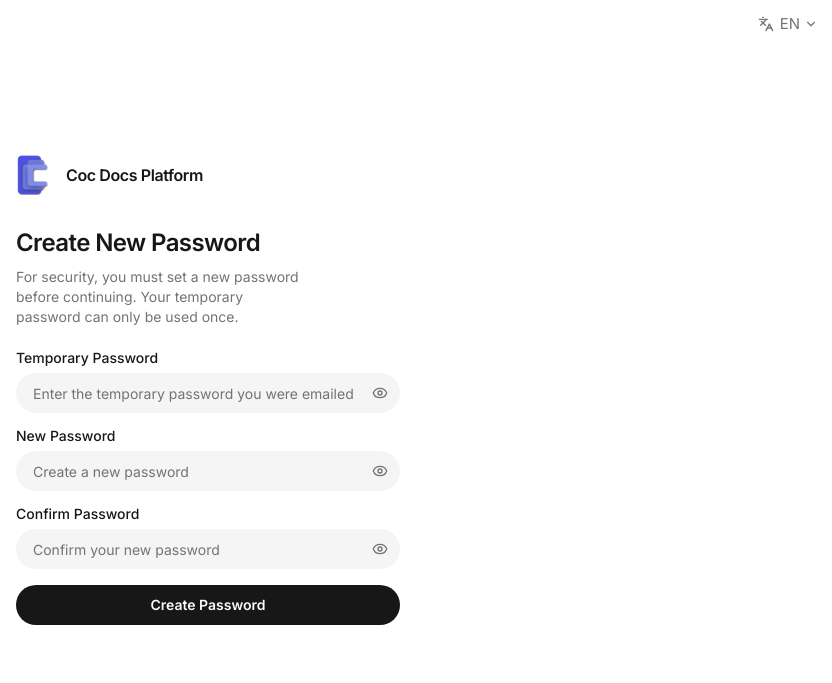
Test case: CreatePasswordPage › creates the password, confirms, and redirects to /overview
This screenshot has width=832, height=683.
Expected: the heading "Create New Password" is shown, [16, 228, 260, 257]
In the password field labelled "Temporary Password": (208, 393) [16, 373, 400, 413], type "TempPassword123!"
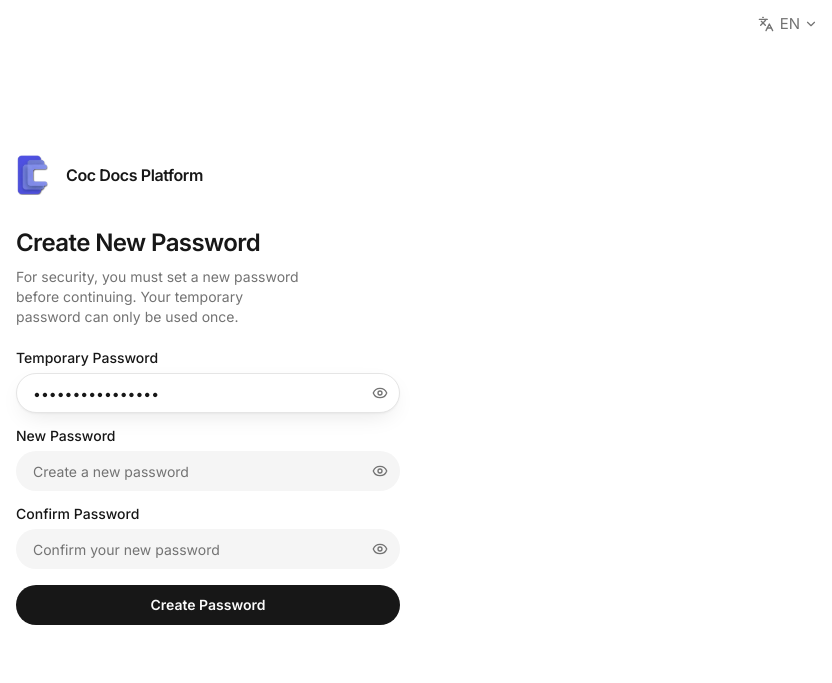
In the password field labelled "New Password": (208, 471) [16, 451, 400, 491], type "NewPassword456!"
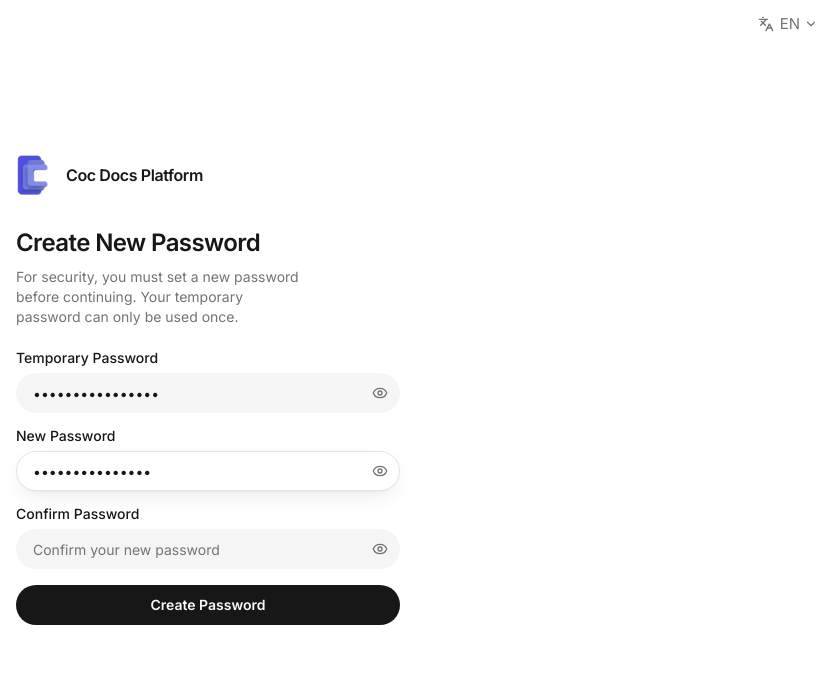
In the password field labelled "Confirm Password": (208, 549) [16, 529, 400, 569], type "NewPassword456!"
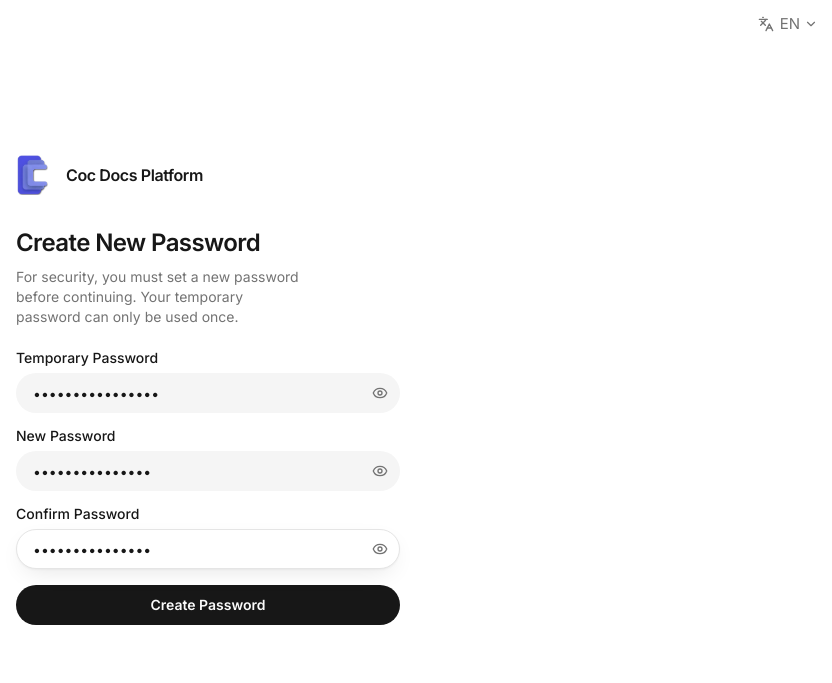
Click the button "Create Password": (208, 605) [16, 585, 400, 625]
Wait 1200 ms
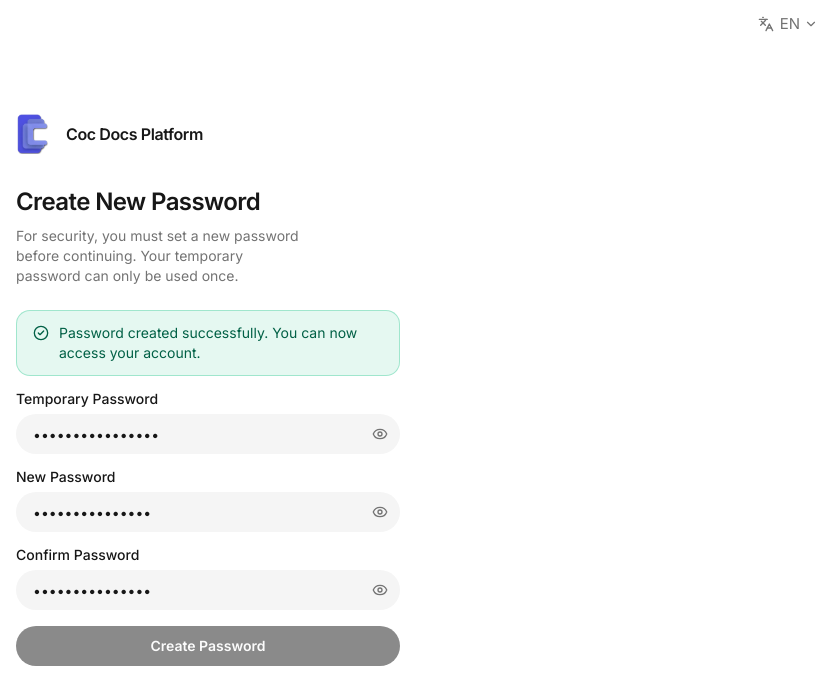
Expected: the text "Password created successfully. You can now access your account." is shown, [59, 323, 383, 363]
